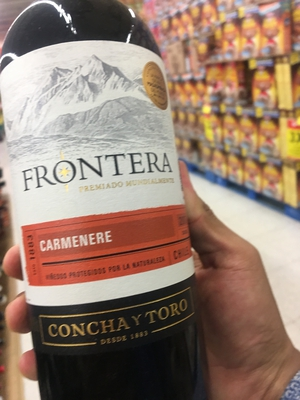frontera cabernet sauvignon: (4, 12, 217, 400)
